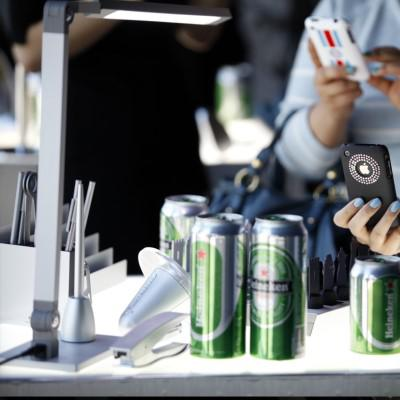beer: (160, 193, 400, 362)
